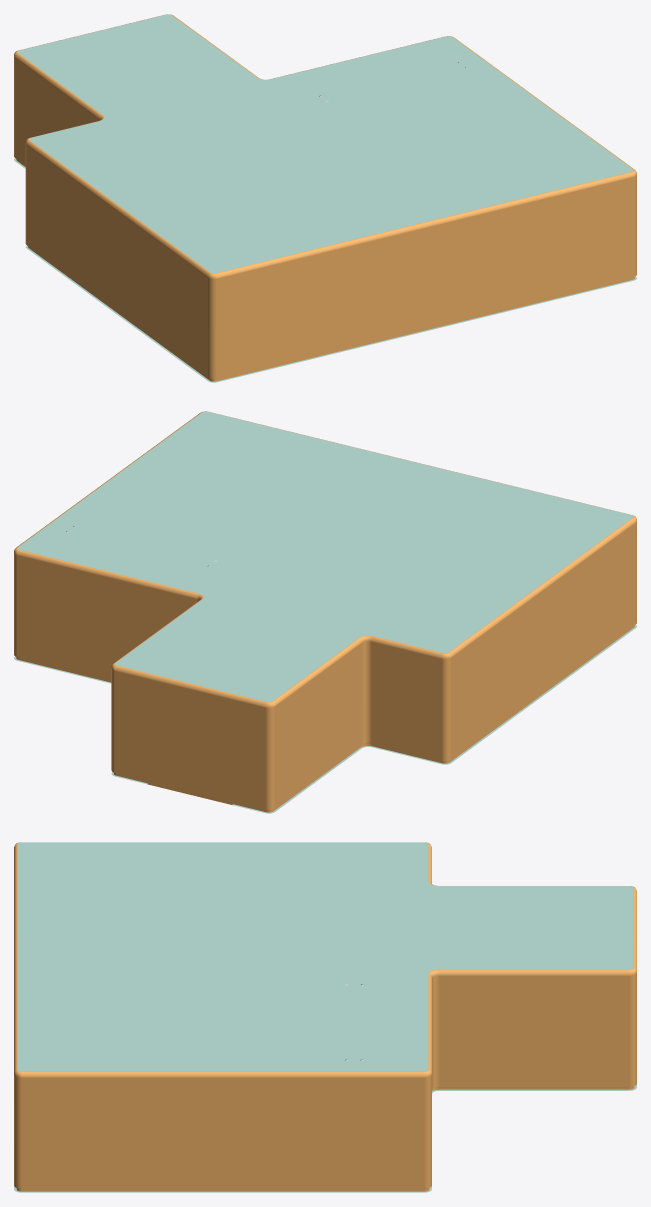
Rendered from EspacoQuase 2.fbx.
The picture shows the model from 3 angles, top to bottom: view 1: azimuth 30°, elevation 25°; view 2: azimuth 150°, elevation 25°; view 3: azimuth 270°, elevation 25°; orthographic projection. The views are drawn at different scales.
Parts seen in each view (by area): view 1: Layout.002, Layout.001; view 2: Layout.002, Layout.005, Layout.004, Layout.003, Layout.001; view 3: Layout.002, Layout.001.
Boxes of the visible parts, x1,y1,x2,y2 form: Layout.002: (14,14,636,381); Layout.001: (14,158,636,382); Layout.002: (14,411,636,812); Layout.005: (159,716,221,802); Layout.004: (232,725,260,799); Layout.003: (120,697,147,772); Layout.001: (14,625,636,813); Layout.002: (14,842,636,1191); Layout.001: (14,1084,636,1192).
Size of the model in its own units: 3061 by 737 by 3474.
